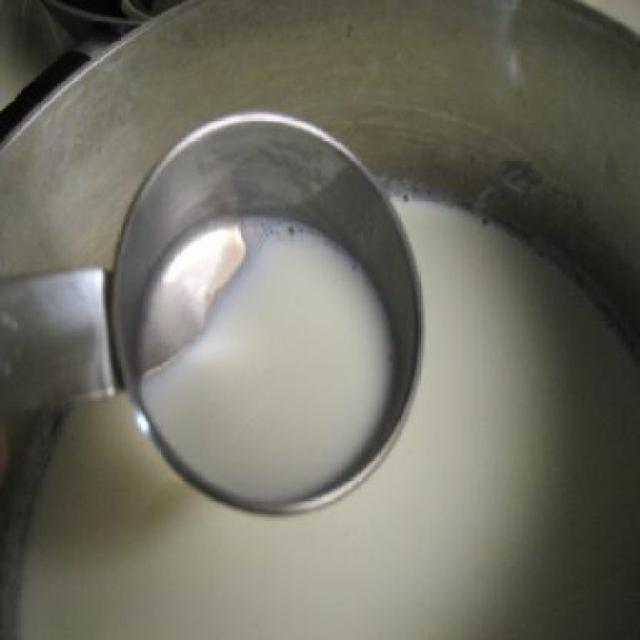Milk: (4, 187, 640, 640)
